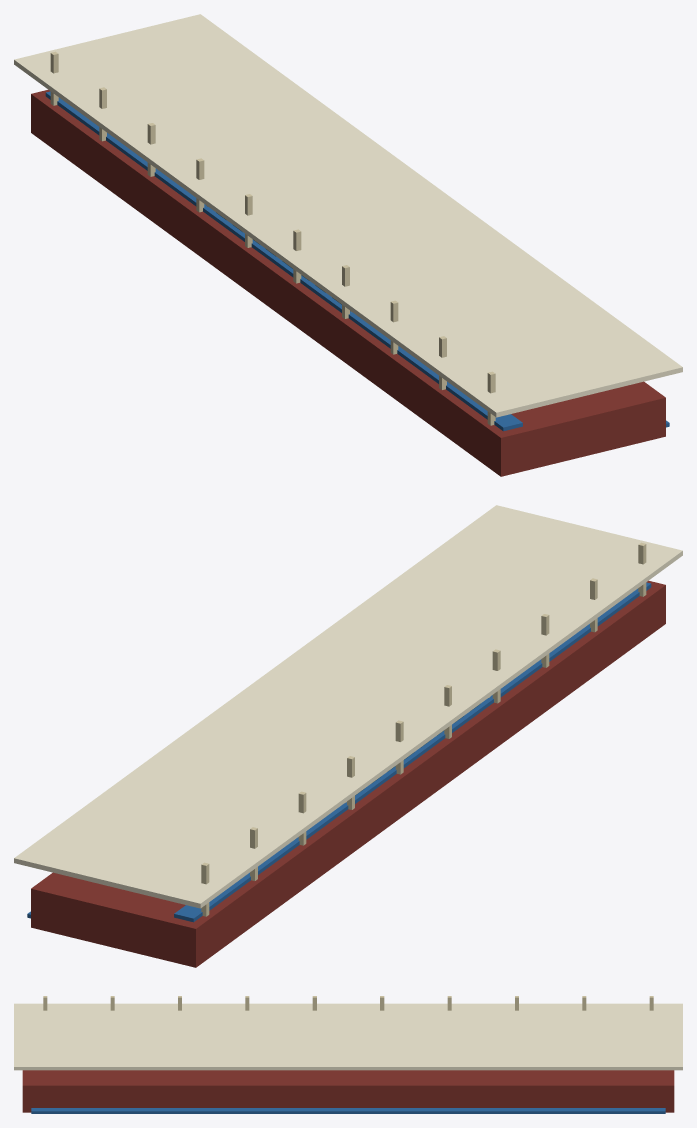
The picture shows the model from 3 angles, top to bottom: view 1: azimuth 30°, elevation 25°; view 2: azimuth 150°, elevation 25°; view 3: azimuth 270°, elevation 25°; orthographic projection. The views are drawn at different scales.
Parts seen in each view (by area): view 1: Canopy, GrandstandBase, SteppedSeating, CanopyColumns; view 2: Canopy, GrandstandBase, SteppedSeating, CanopyColumns; view 3: Canopy, GrandstandBase, SteppedSeating, CanopyColumns.
Boxes of the visible parts, <box> form: Canopy: <box>14,14,682,417</box>; GrandstandBase: <box>31,89,665,476</box>; SteppedSeating: <box>45,91,669,431</box>; CanopyColumns: <box>50,51,495,425</box>; Canopy: <box>14,505,682,908</box>; GrandstandBase: <box>31,580,665,967</box>; SteppedSeating: <box>27,582,651,922</box>; CanopyColumns: <box>201,542,646,916</box>; Canopy: <box>14,1003,682,1070</box>; GrandstandBase: <box>22,1070,674,1112</box>; SteppedSeating: <box>31,1108,665,1113</box>; CanopyColumns: <box>43,996,653,1010</box>.
Size of the model in its own units: 26.09 by 12 by 117.
